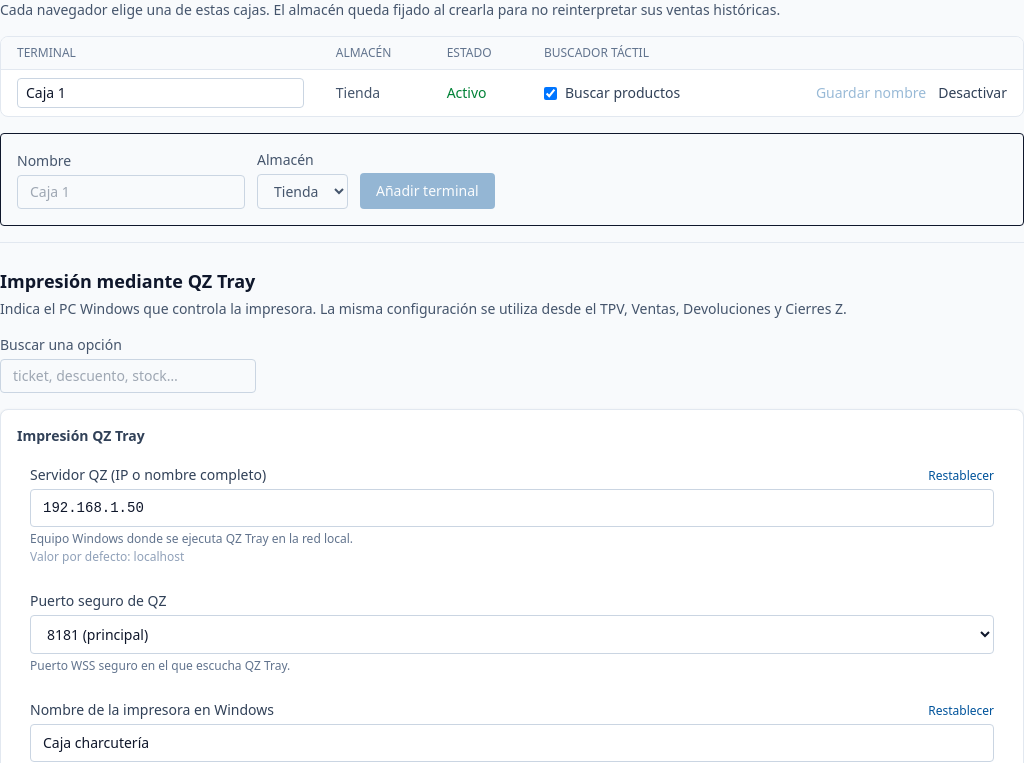
Test case: PosTerminalsPage › saves and tests the remote QZ destination from Terminales POS
Check: the heading "Impresión mediante QZ Tray" is shown, box [0, 269, 255, 293]
Clear the field labelled "Servidor QZ (IP o nombre completo)" at (512, 508), box [30, 489, 994, 527]
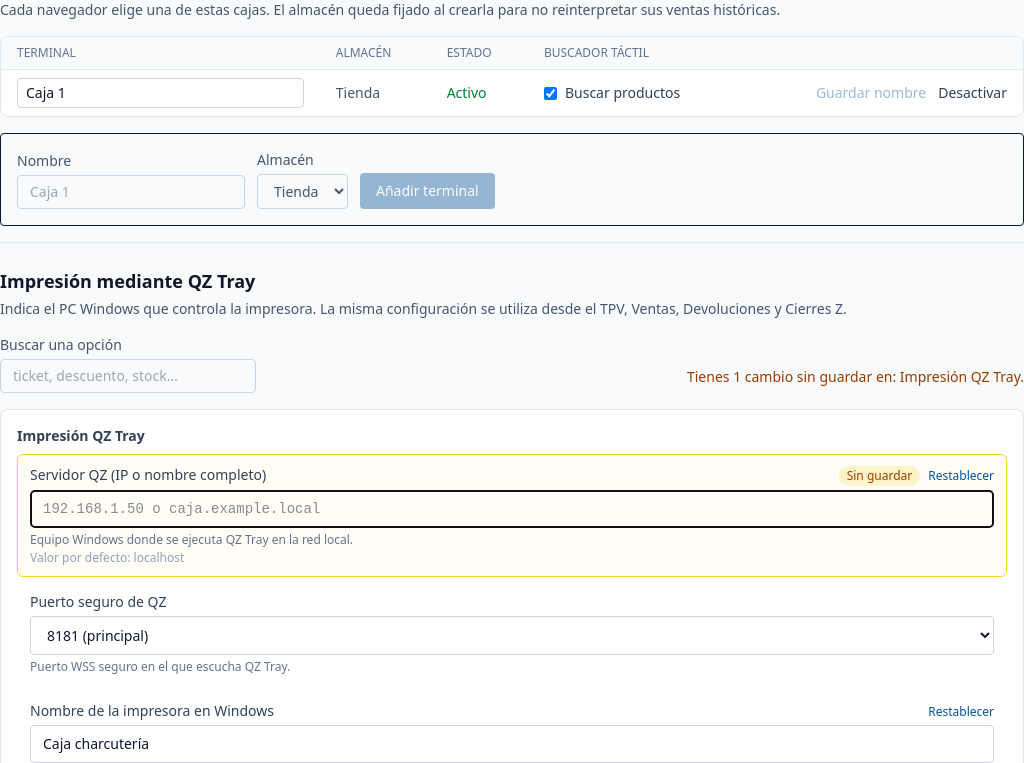
Type "192.168.1.60" into the field labelled "Servidor QZ (IP o nombre completo)" at (512, 509), box [30, 490, 994, 528]
(page scrolled)
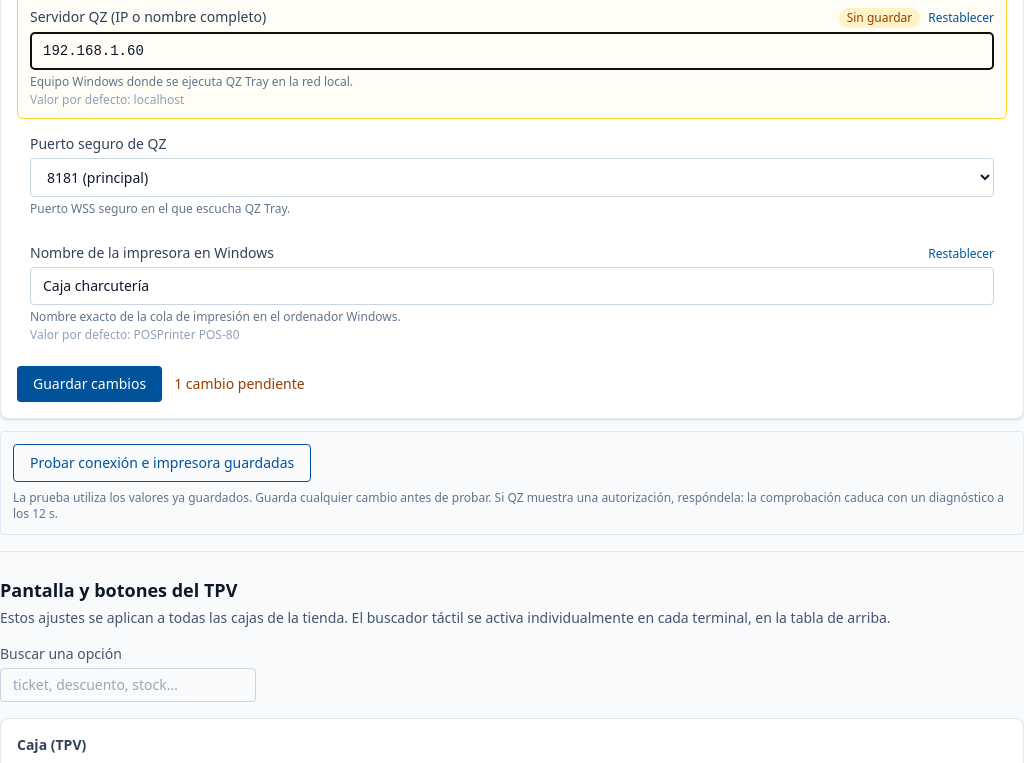
Click the button with aria-label "Guardar cambios de Impresión QZ Tray" at (90, 384), box [17, 366, 162, 402]
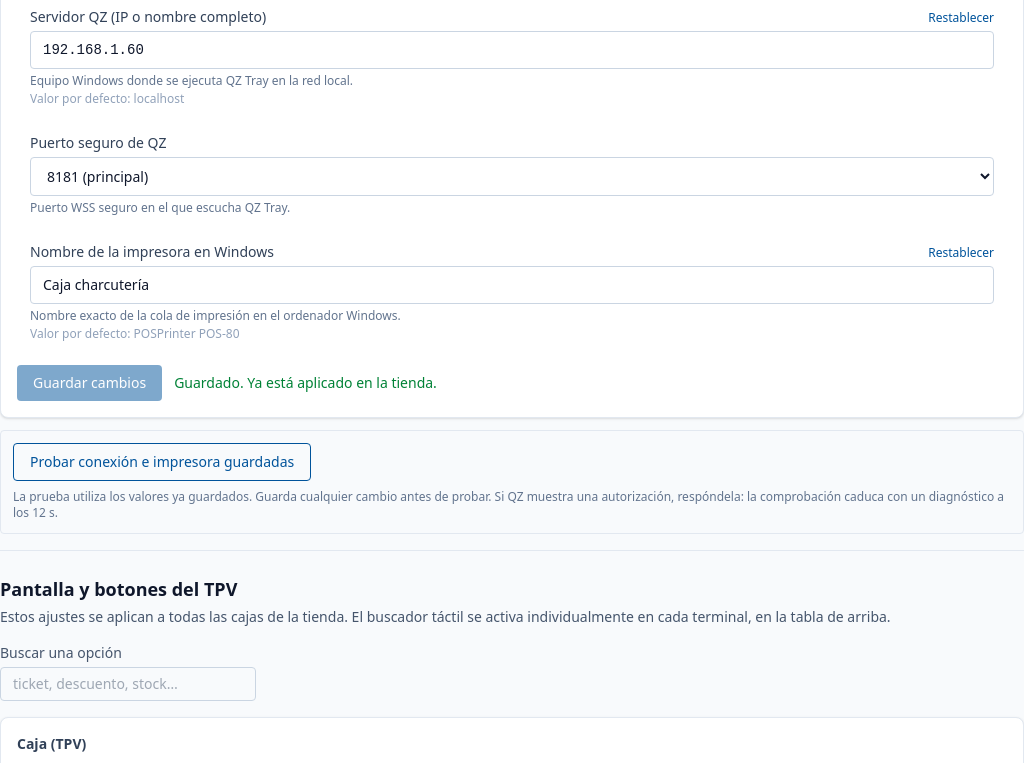
Click the button "Probar conexión e impresora guardadas" at (162, 462), box [13, 443, 311, 481]
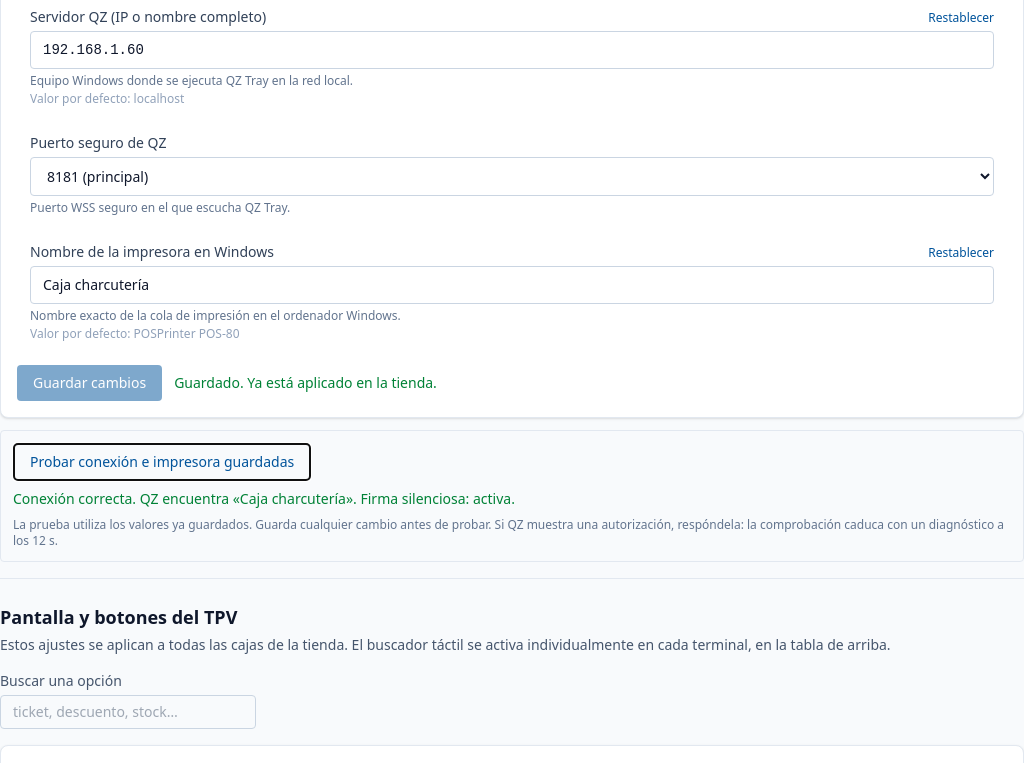
Check: the message shows "Firma silenciosa: activa", box [13, 489, 515, 508]
